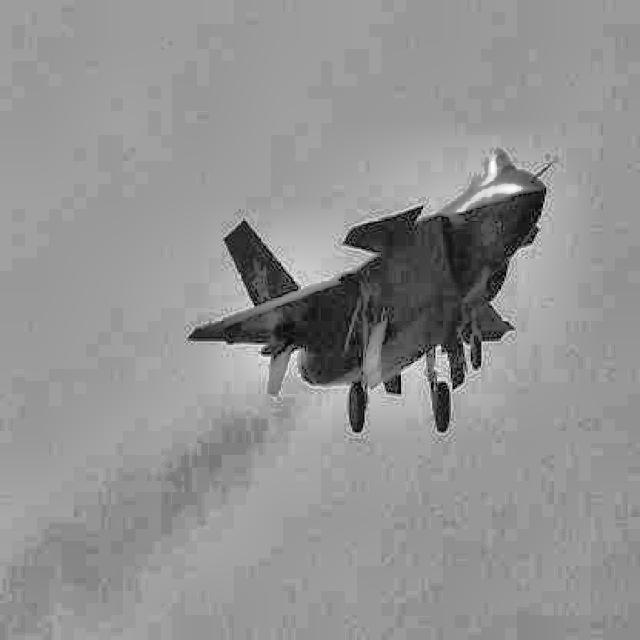J20: (186, 148, 557, 434)
